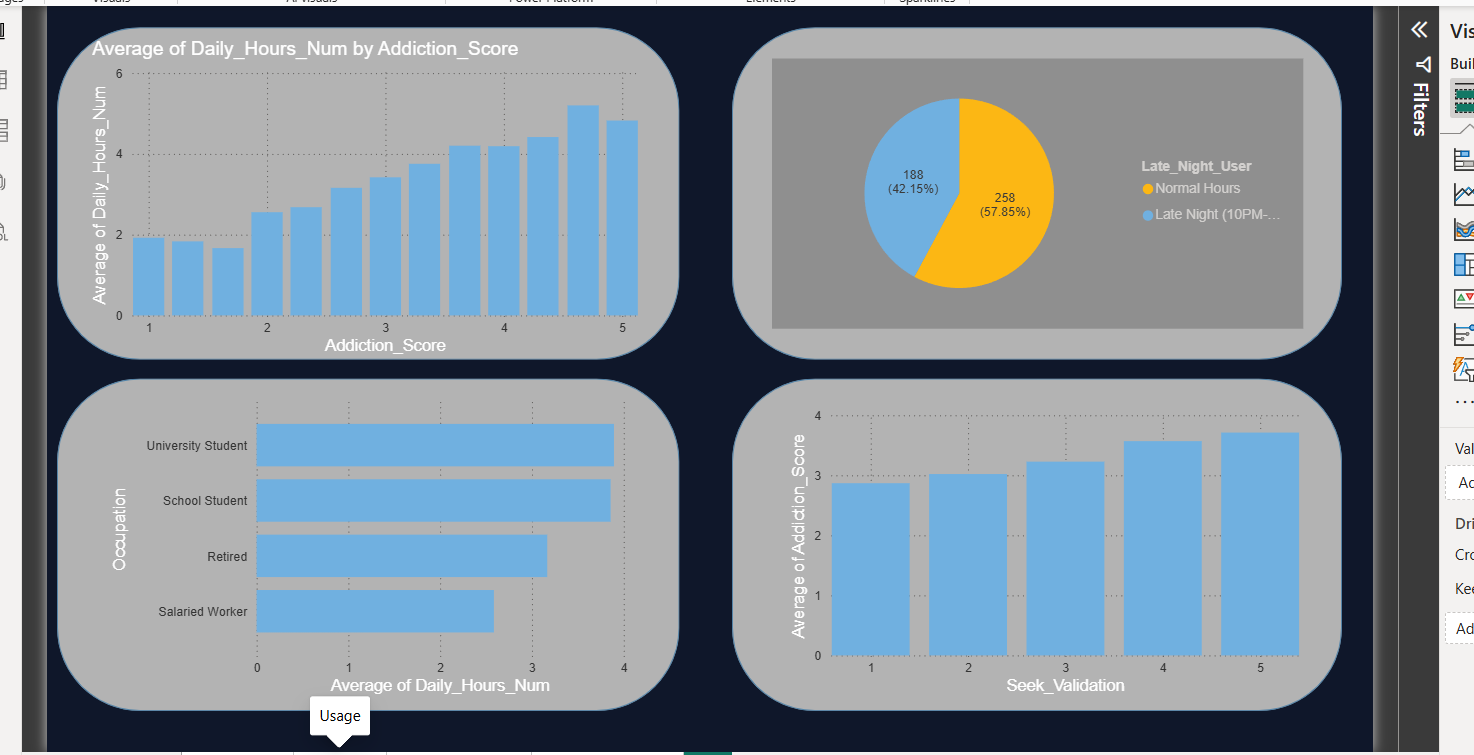

What the dashboard file says about the page in this screenshot:
{"tool":"powerbi","page":{"name":"Usage","canvas":[1280,720],"ordinal":1},"visuals":[{"type":"shape","box":[27.5,381.2,612.5,317.9],"z":0},{"type":"shape","box":[667.5,33,612.5,333.1],"z":1000},{"type":"shape","box":[667.5,381.2,612.5,317.9],"z":2000},{"type":"shape","box":[27.5,33,612.5,327.6],"z":3000},{"type":"clusteredColumnChart","fields":{"Category":["Survey_Data.Addiction_Score"],"Y":["CountNonNull(Survey_Data.Daily_Hours)"]},"box":[61.9,45.4,531.3,301.4],"z":4000},{"type":"clusteredBarChart","fields":{"Y":["Sum(Survey_Data.Daily_Hours_Num)"],"Category":["Survey_Data.Occupation"]},"box":[74.3,390.9,518.9,300],"z":5000},{"type":"pieChart","fields":{"Category":["Survey_Data.Late_Night_User"],"Y":["Sum(Survey_Data.Sleep_Issues)"]},"box":[699.2,45.4,557.4,300],"z":5001},{"type":"clusteredColumnChart","fields":{"Y":["Avg(Survey_Data.Addiction_Score)"],"Category":["Survey_Data.Seek_Validation"]},"box":[715.7,390.9,529.9,300],"z":5002}]}

Visuals, with their boxes on the page's 1280x720 design canvas (x1, y1, x2, y2). These are canvas units, not pixel positions in the 1474x755 screenshot, which may show the page scaled, cropped or inside an application window:
shape: 28, 381, 640, 699
shape: 668, 33, 1280, 366
shape: 668, 381, 1280, 699
shape: 28, 33, 640, 361
clusteredColumnChart - Survey_Data.Addiction_Score x CountNonNull(Survey_Data.Daily_Hours): 62, 45, 593, 347
clusteredBarChart - Sum(Survey_Data.Daily_Hours_Num) x Survey_Data.Occupation: 74, 391, 593, 691
pieChart - Survey_Data.Late_Night_User x Sum(Survey_Data.Sleep_Issues): 699, 45, 1257, 345
clusteredColumnChart - Avg(Survey_Data.Addiction_Score) x Survey_Data.Seek_Validation: 716, 391, 1246, 691
